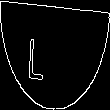L_N: (46, 28, 64, 82)
